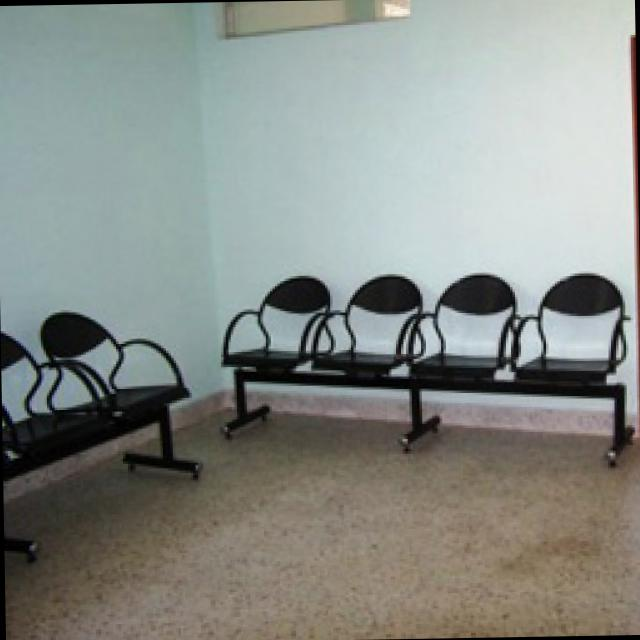2003: (227, 0, 412, 34)
floor -X: (6, 399, 640, 640)
seats crop: (223, 267, 637, 460), (5, 307, 202, 477)
wall clock: (197, 0, 640, 437), (0, 2, 231, 501)
